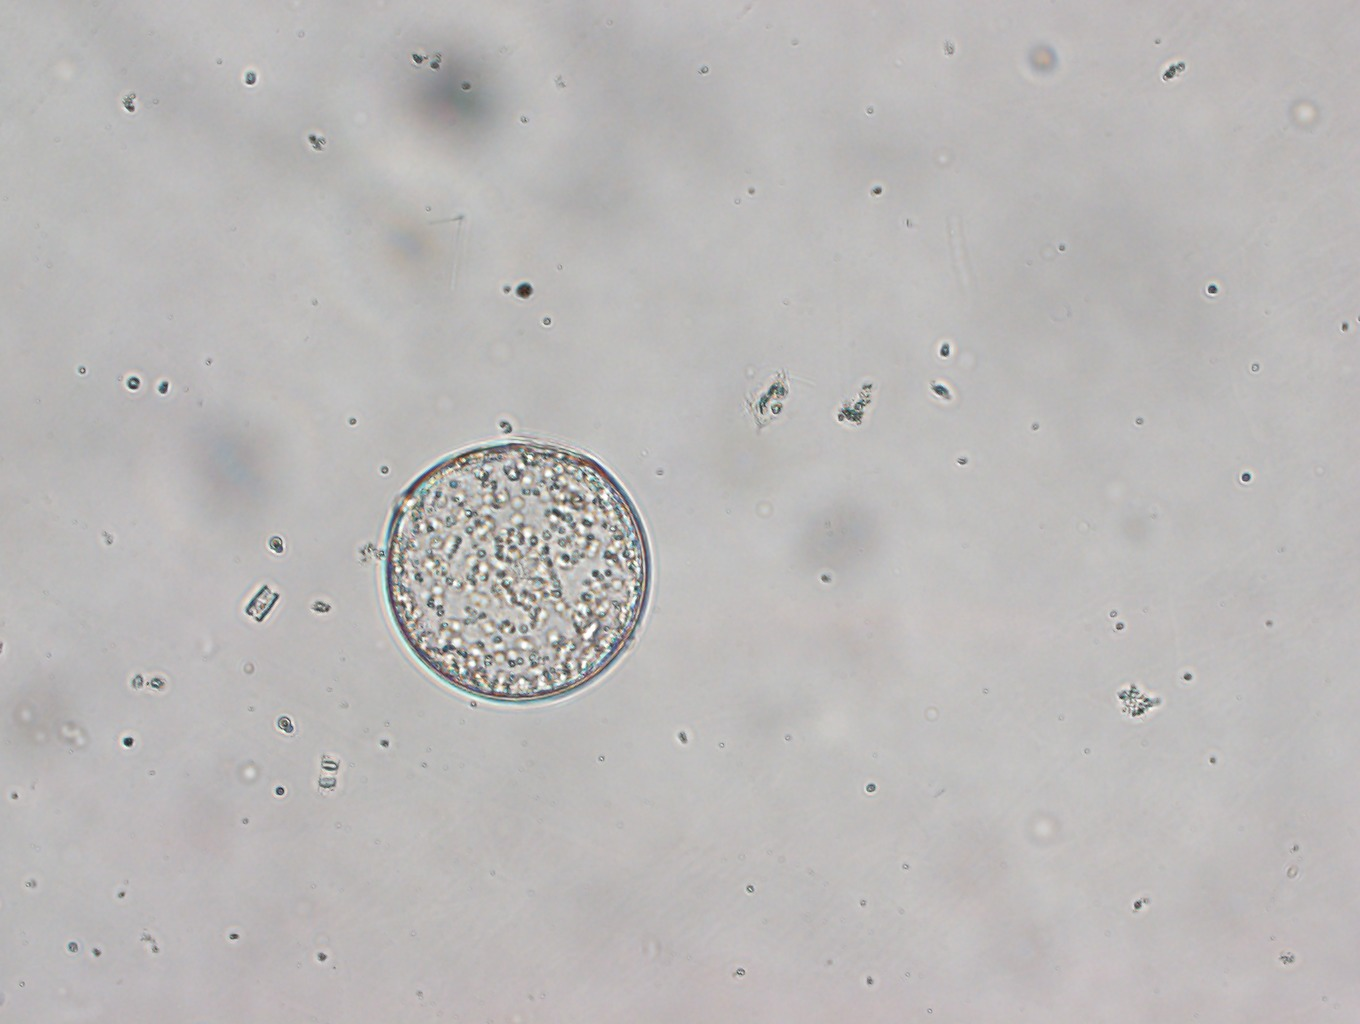coscinodiscus: (375, 435, 655, 711)
